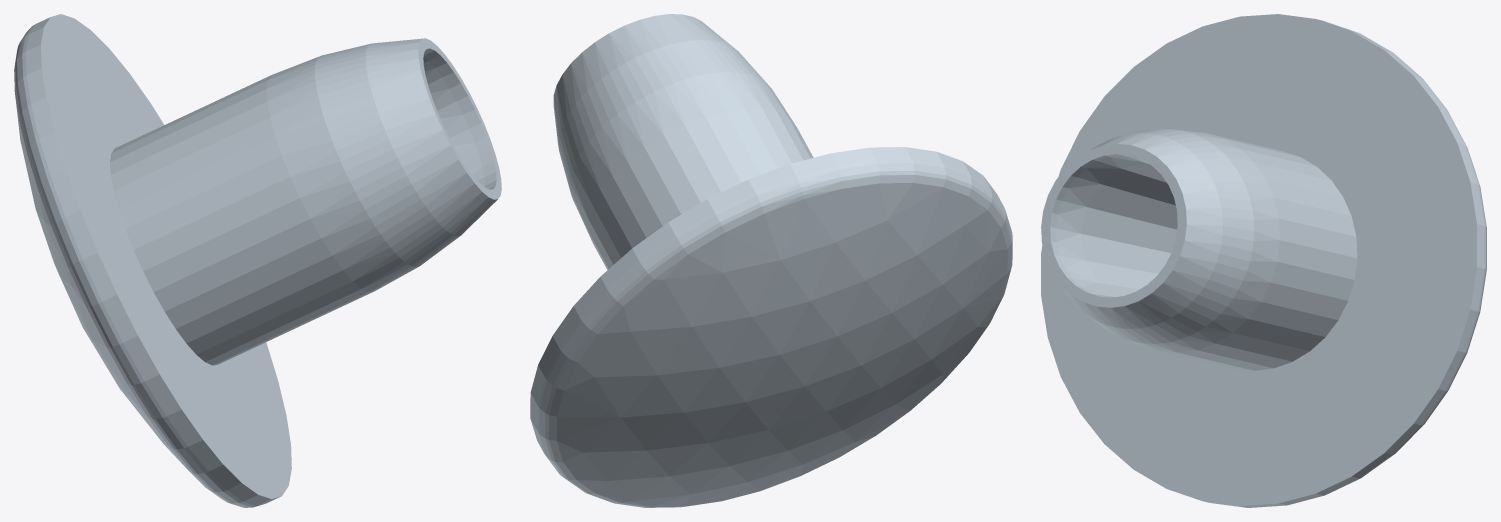
The picture shows the model from 3 angles, left to right: view 1: azimuth 30°, elevation 25°; view 2: azimuth 150°, elevation 25°; view 3: azimuth 270°, elevation 25°; orthographic projection. The views are drawn at different scales.
Visible parts, largest first — view 1: 10118528; view 2: 10118528; view 3: 10118528.
Boxes of the visible parts, left/top/right/bottom form: 10118528: left=14, top=14, right=501, bottom=507; 10118528: left=530, top=14, right=1012, bottom=507; 10118528: left=1041, top=14, right=1486, bottom=507.
Bounding box in the file's own units: 1 × 0.9522 × 0.9499.
